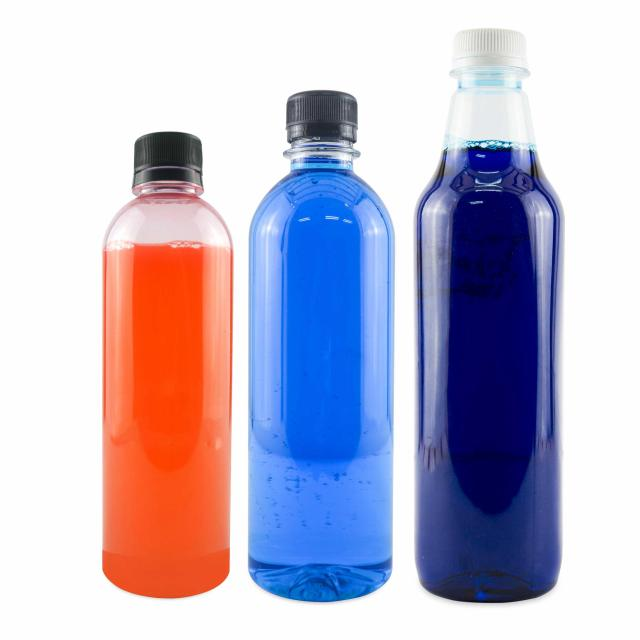plastic_bottle: (423, 28, 557, 603), (247, 91, 393, 602), (99, 133, 232, 599)
